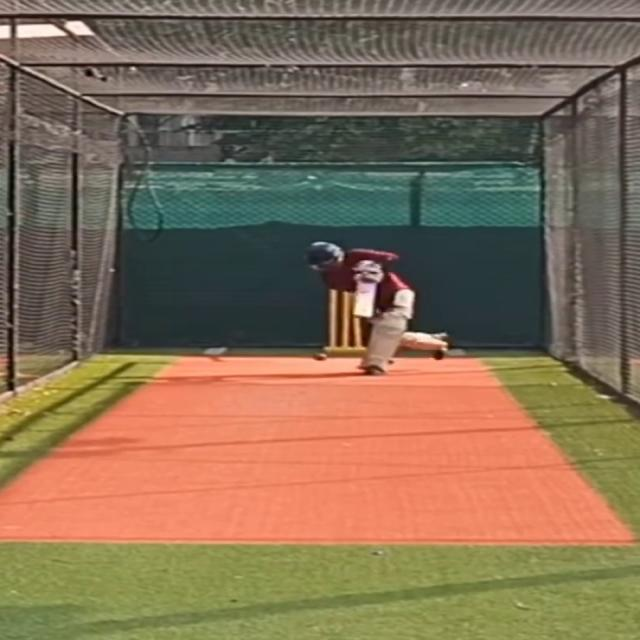ball: (308, 352, 327, 362)
stump: (325, 289, 361, 353)
